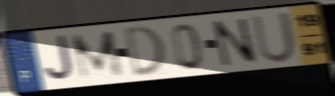0: (170, 22, 204, 72)
D: (123, 23, 167, 80)
J: (43, 33, 77, 83)
M: (69, 28, 128, 83)
N: (210, 17, 261, 68)
U: (250, 9, 298, 65)
